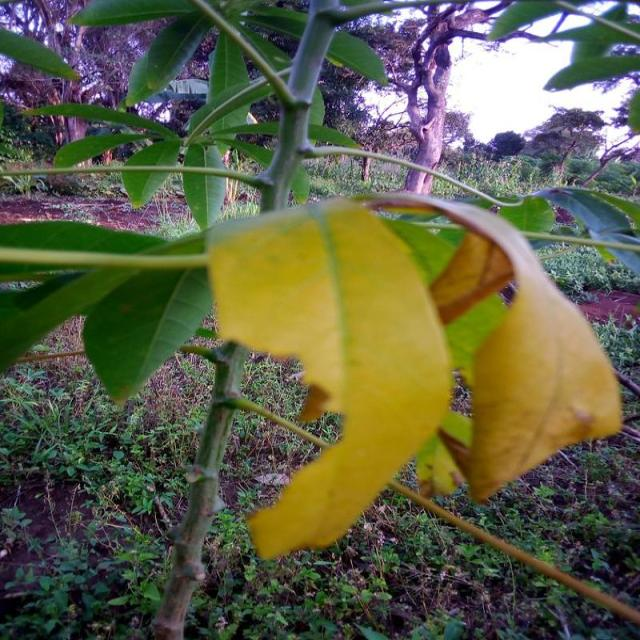cassava leaf: (204, 195, 454, 561)
